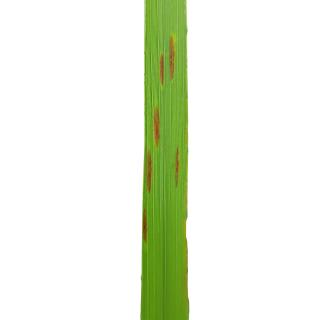Bercak-Cokelat-Sempit: (156, 34, 178, 87), (150, 105, 165, 143), (171, 146, 181, 187), (146, 150, 152, 192), (141, 208, 147, 241)
